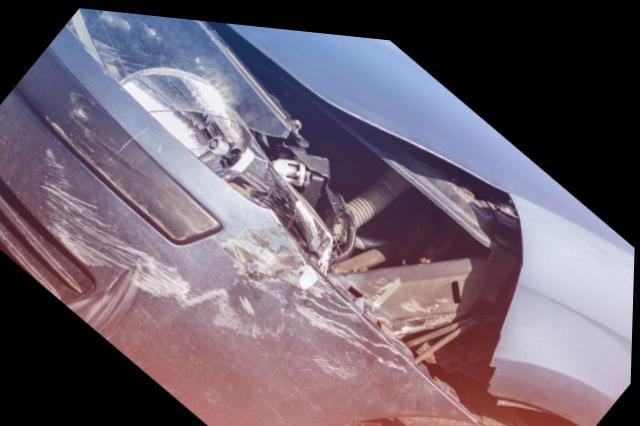dislocated part: (0, 24, 491, 426)
lamp broken: (65, 6, 355, 267)
scratch: (38, 86, 416, 371)
